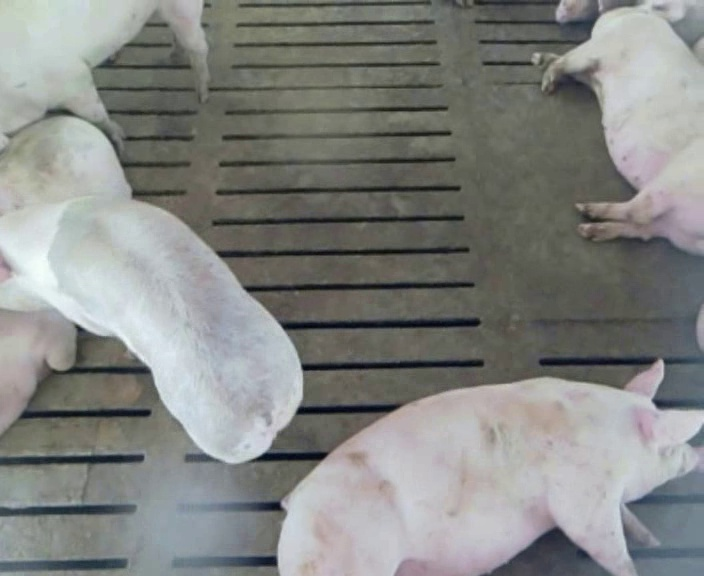pig: (278, 360, 703, 574), (534, 2, 703, 254)
